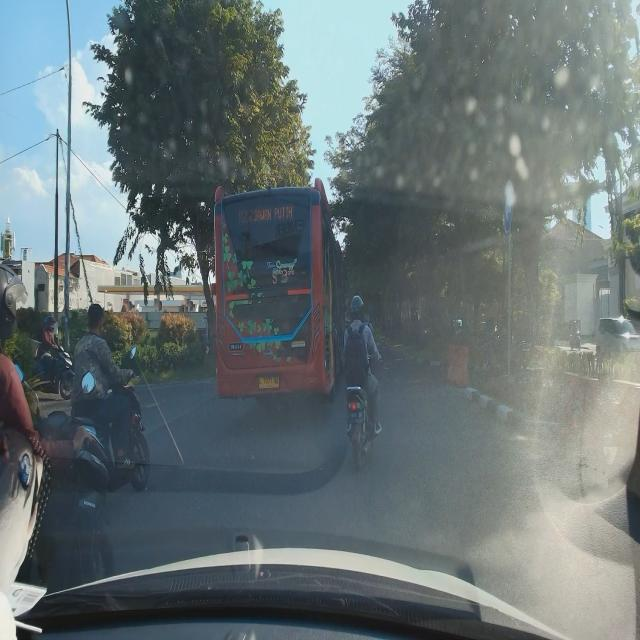bus: (213, 176, 345, 402)
license-plate: (258, 376, 280, 388)
